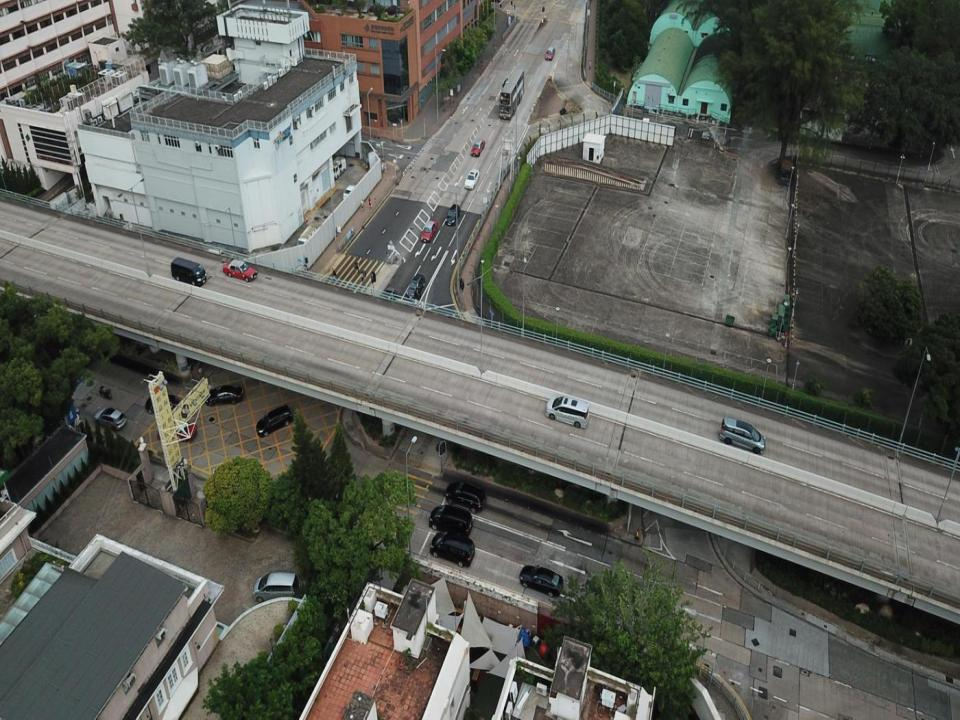bus: (500, 68, 524, 118)
car: (544, 395, 590, 430), (518, 564, 564, 595), (446, 480, 486, 512), (147, 394, 190, 421), (255, 406, 293, 436), (161, 414, 196, 440), (222, 258, 257, 282), (202, 384, 243, 404), (94, 408, 126, 430), (376, 288, 398, 313), (406, 274, 424, 302), (420, 218, 437, 242), (444, 204, 461, 226), (342, 184, 360, 202), (464, 169, 481, 188), (472, 139, 484, 157), (546, 48, 555, 61)
van: (716, 416, 764, 456), (428, 531, 475, 567), (254, 570, 297, 604), (430, 504, 472, 534), (172, 258, 207, 285), (326, 155, 346, 180)
